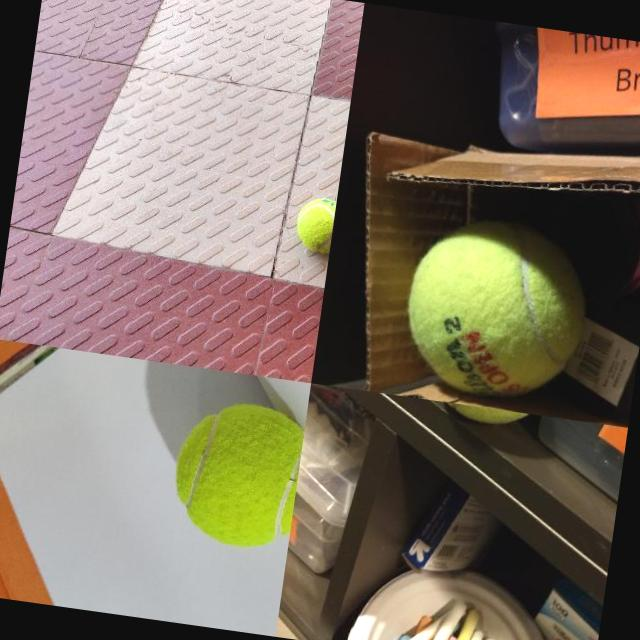Tennis Ball: (395, 208, 598, 410), (164, 392, 306, 556), (292, 196, 336, 254)
